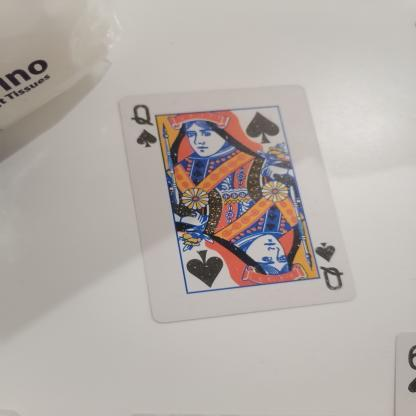QS: (302, 239, 360, 293), (127, 99, 164, 155)
